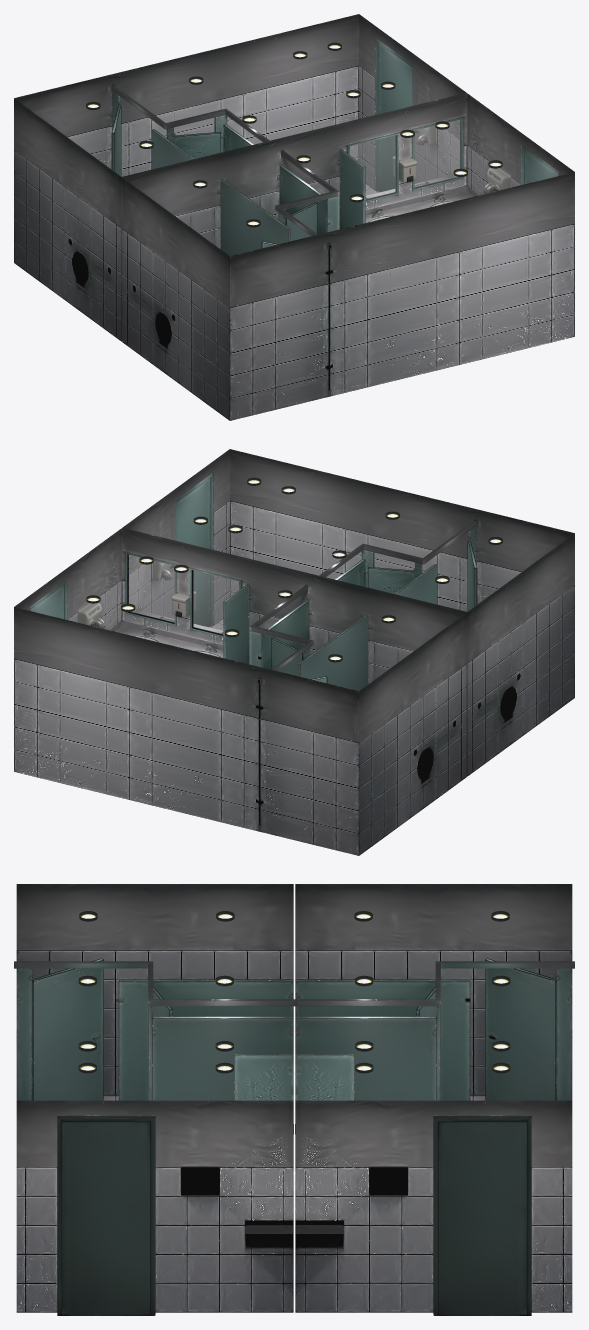
File: restroom.glb
3 views of the same model, one above another, from view 1: azimuth 30°, elevation 25°; view 2: azimuth 150°, elevation 25°; view 3: azimuth 270°, elevation 25° (orthographic). The views are drawn at different scales.
Visible parts, largest first — view 1: walls, walls.001, panels, doors.001, doors.003, panels.001, doors, sink, metal.001, metal, edges, lights (+3 smaller); view 2: walls.001, walls, panels.001, doors.001, doors, panels, doors.003, sink.001, metal.001, metal, edges.001, lights.001 (+3 smaller); view 3: walls, walls.001, panels.001, panels, doors, doors.003, metal, metal.001, edges.001, edges, lights, lights.001.
Part boxes in pixels (box(x1,y1,x2,y2)): walls: box(122, 93, 574, 420); walls.001: box(14, 14, 466, 341); panels: box(221, 150, 364, 255); doors.001: box(350, 119, 461, 200); doors.003: box(365, 38, 460, 199); panels.001: box(112, 91, 253, 176); doors: box(347, 117, 559, 202); sink: box(365, 186, 479, 222); metal.001: box(112, 85, 283, 155); metal: box(275, 151, 339, 396); edges: box(220, 150, 365, 249); lights: box(193, 121, 502, 227); walls.001: box(14, 528, 466, 855); walls: box(122, 449, 574, 776); panels.001: box(224, 585, 367, 690); doors.001: box(129, 555, 238, 633); doors: box(128, 473, 223, 634); panels: box(335, 526, 476, 611); doors.003: box(29, 552, 241, 637); sink.001: box(109, 621, 223, 657); metal.001: box(249, 585, 313, 831); metal: box(319, 520, 476, 577); edges.001: box(223, 585, 368, 684); lights.001: box(86, 556, 395, 662); walls: box(16, 884, 293, 1315); walls.001: box(295, 884, 572, 1315); panels.001: box(296, 959, 571, 1100); panels: box(17, 959, 292, 1100); doors: box(57, 1054, 293, 1314); doors.003: box(295, 1054, 531, 1314); metal: box(14, 961, 297, 1006); metal.001: box(291, 961, 574, 1006); edges.001: box(295, 958, 571, 1100); edges: box(17, 958, 293, 1100); lights: box(78, 911, 234, 1073); lights.001: box(354, 911, 510, 1073).
Size of the model in its own units: 16.3 by 7.37 by 17.55.
31 materials, 29 textured.
